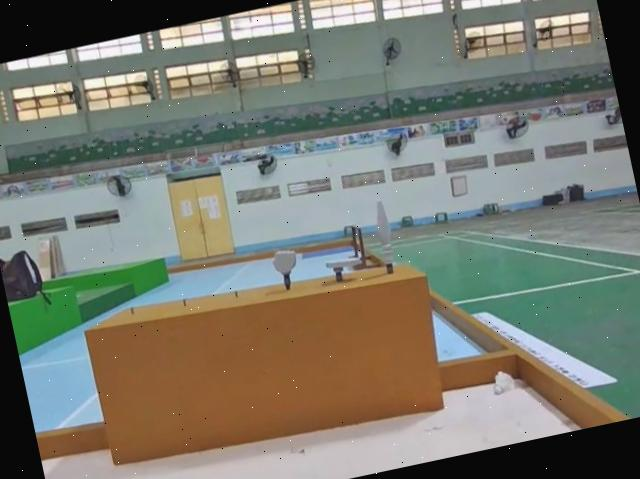Fist: (267, 246, 303, 292)
Hand: (321, 251, 359, 285)
Sph: (364, 199, 399, 278)
